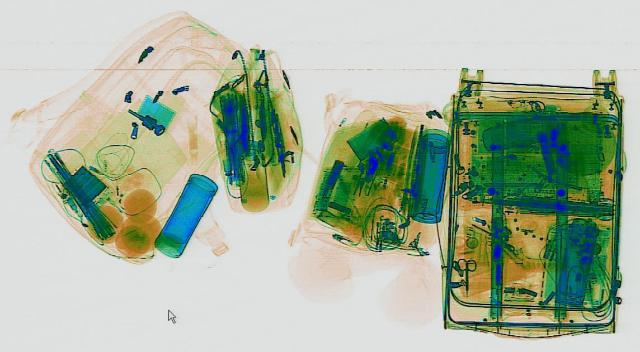Scissors: (454, 256, 476, 293)
